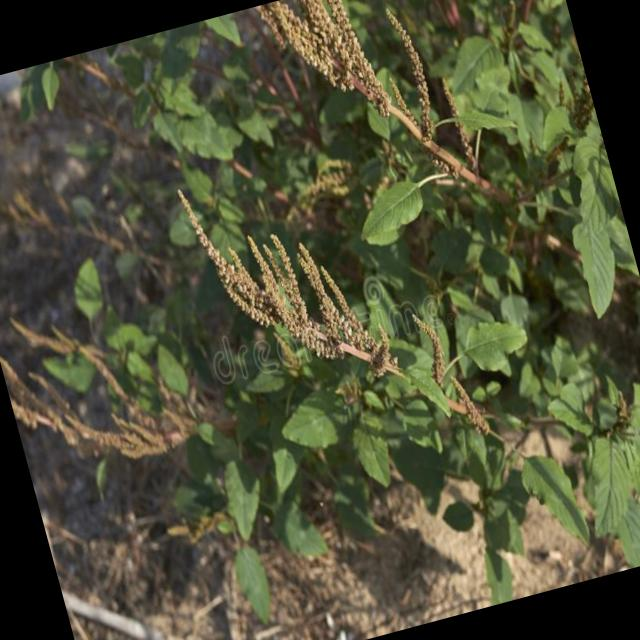Medicinal-Arive Dantu: (169, 110, 550, 510), (266, 0, 637, 345), (34, 310, 252, 520), (541, 344, 640, 577)
